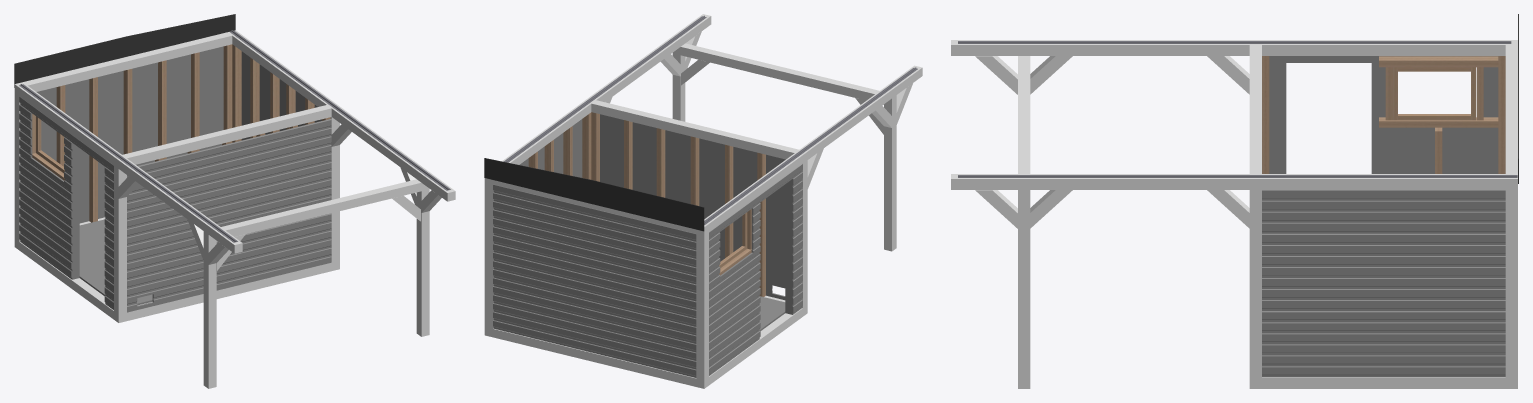
The model's file is observatory-static.glb.
3 views of the same model, side by side, from view 1: azimuth 30°, elevation 25°; view 2: azimuth 150°, elevation 25°; view 3: azimuth 270°, elevation 25° (orthographic). The views are drawn at different scales.
Bounding box in the file's own units: 2.7 × 2.23 × 4.66.
Materials: 10 (3 with a texture image).
